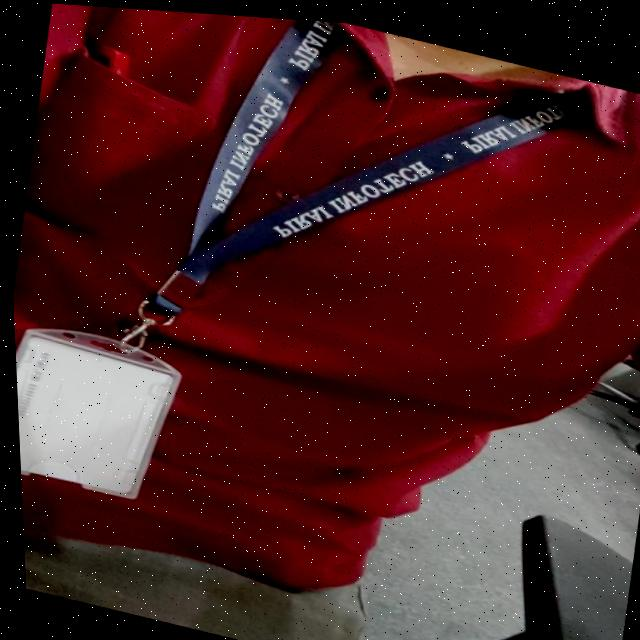id_card: (0, 0, 614, 609)
